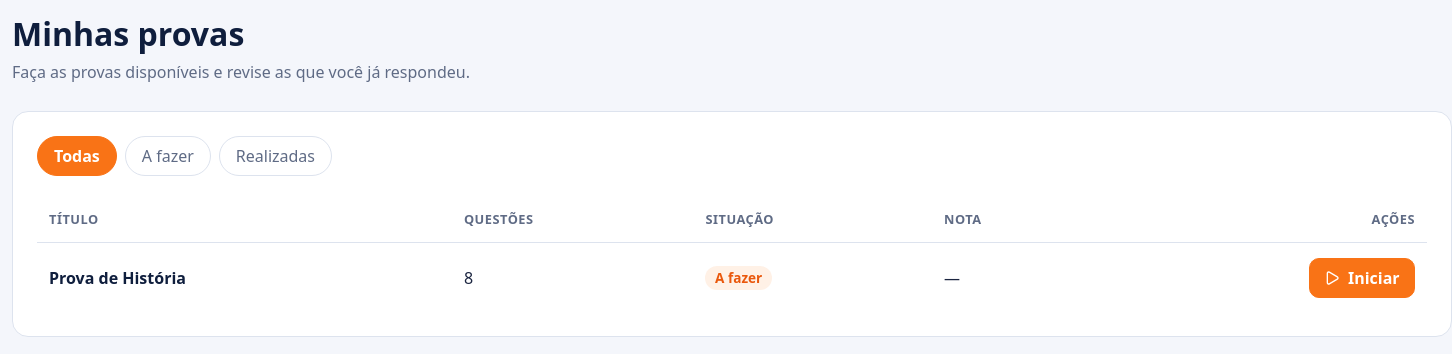
Scenario: StudentExamListView › shows the empty state of a filter
Click the button "Realizadas" at (275, 156), box [219,136,332,176]
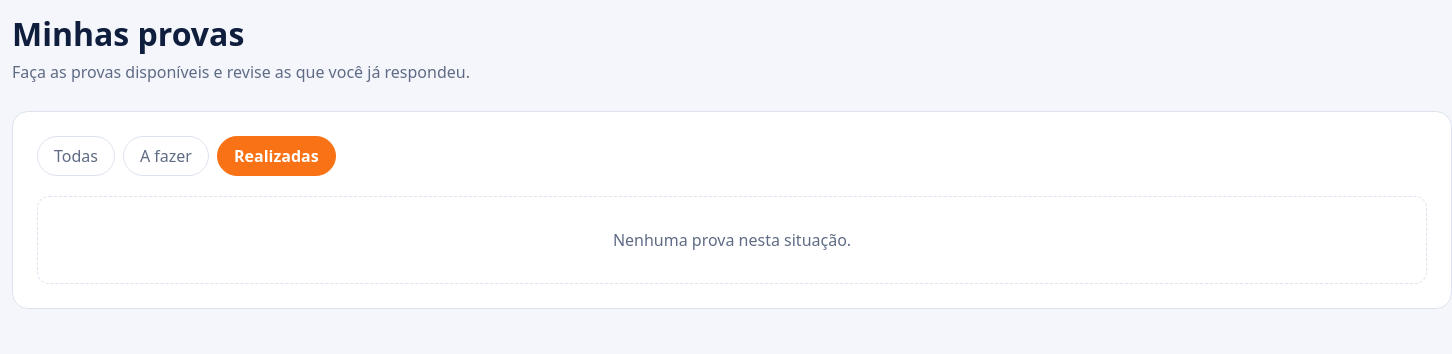
Now the text "Nenhuma prova nesta situação." is shown, box [37,196,1427,284]
